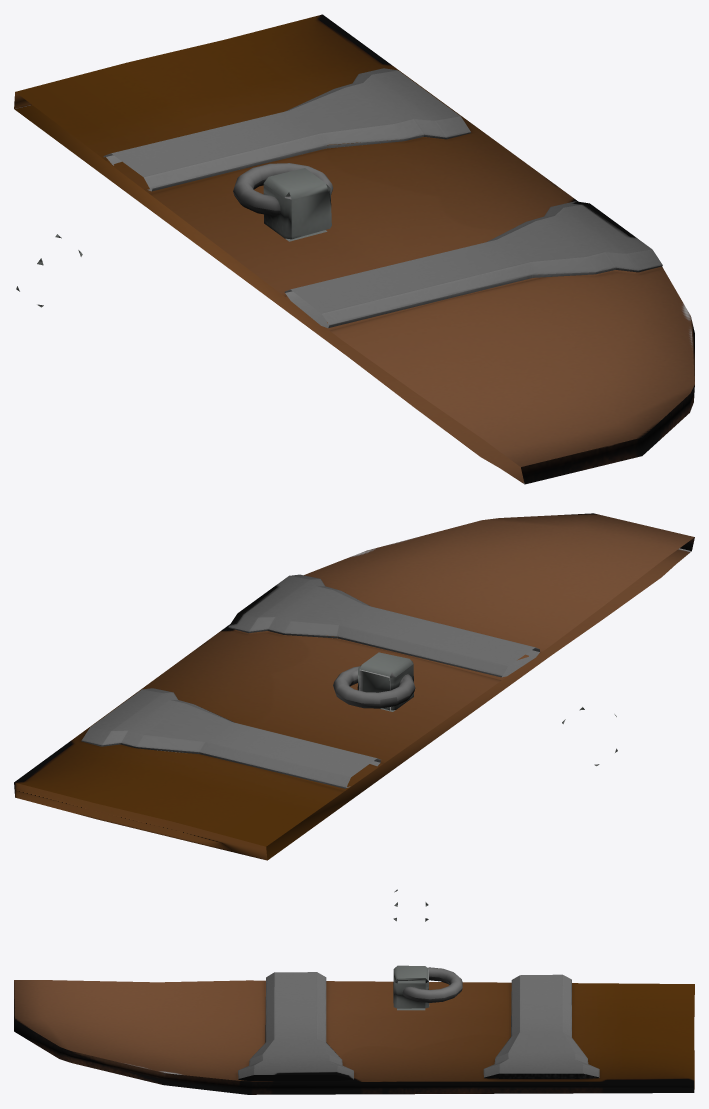
Rendered from puertaIzqJoshua.obj.
3 renders of one model, top to bottom at view 1: azimuth 30°, elevation 25°; view 2: azimuth 150°, elevation 25°; view 3: azimuth 270°, elevation 25°, orthographic. The views are drawn at different scales.
Parts seen in each view (by area): view 1: Whole_Door.006_Door_Colour.001; view 2: Whole_Door.006_Door_Colour.001; view 3: Whole_Door.006_Door_Colour.001.
Boxes of the visible parts, x1=… form: Whole_Door.006_Door_Colour.001: x1=14, y1=14, x2=694, y2=484; Whole_Door.006_Door_Colour.001: x1=14, y1=513, x2=694, y2=860; Whole_Door.006_Door_Colour.001: x1=14, y1=889, x2=694, y2=1094.
Size of the model in its own units: 0.7547 by 0.0998 by 1.31.
